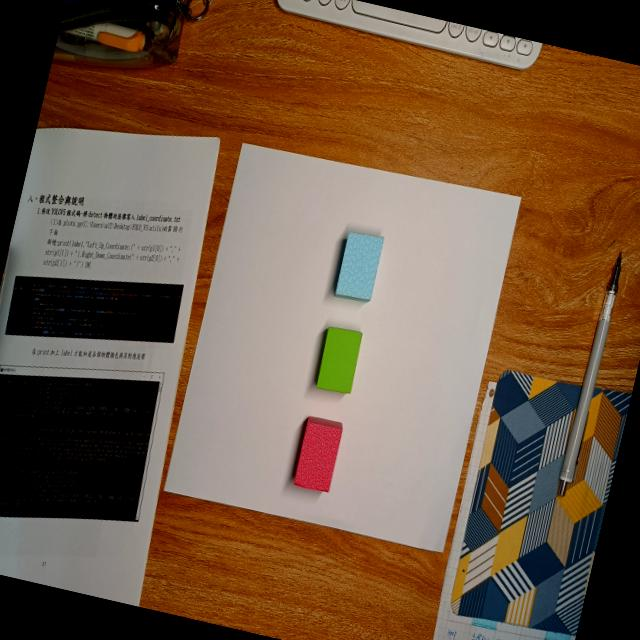BLUE: (334, 228, 384, 303)
GREEN: (316, 326, 364, 394)
RED: (292, 415, 344, 496)
